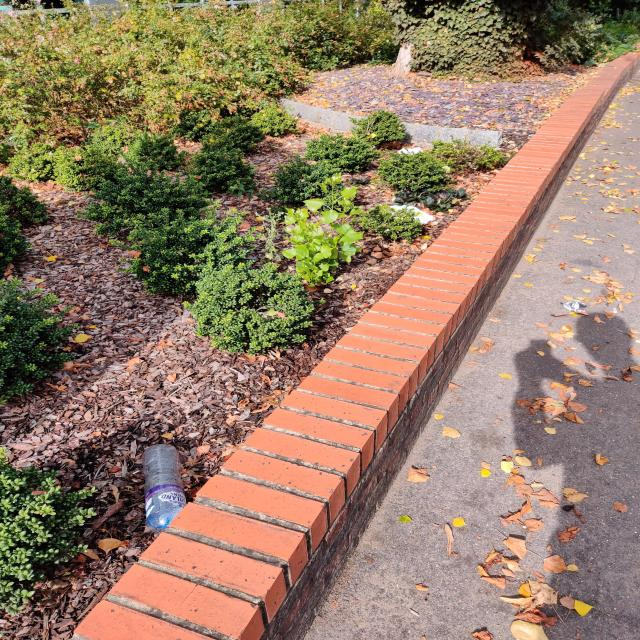litter: (131, 430, 200, 552)
